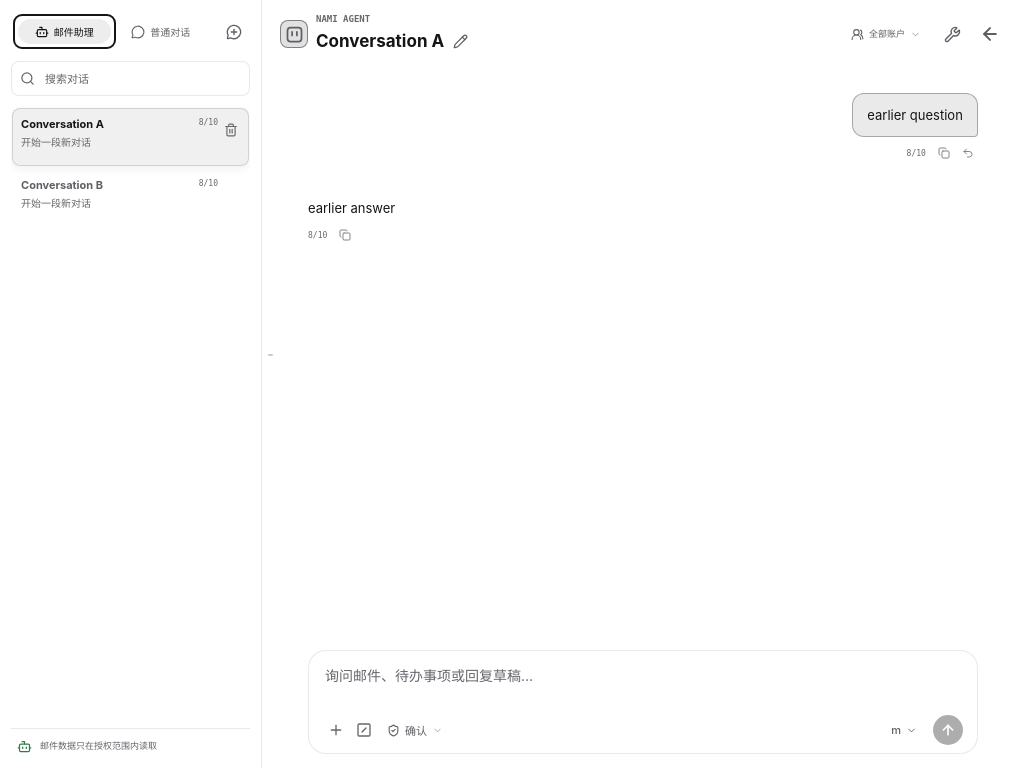
Test: AgentWorkspace conversation switching › multi-select: rows toggle, and deleting the selection removes every chosen conversation
Right-click the element with class "agent-conversation-row" showing "Conversation A 开始一段新对话 8/10" at (130, 137), box [12,108,249,166]
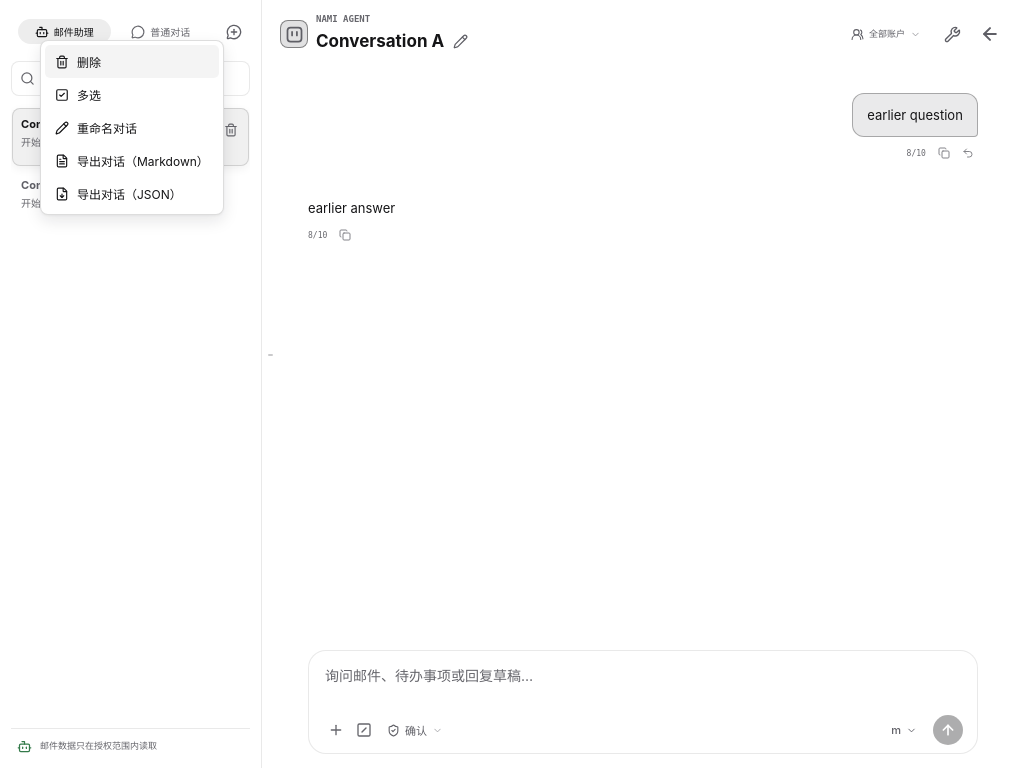
Click the menu item "多选". click: (132, 94)
box: [45,78,219,111]
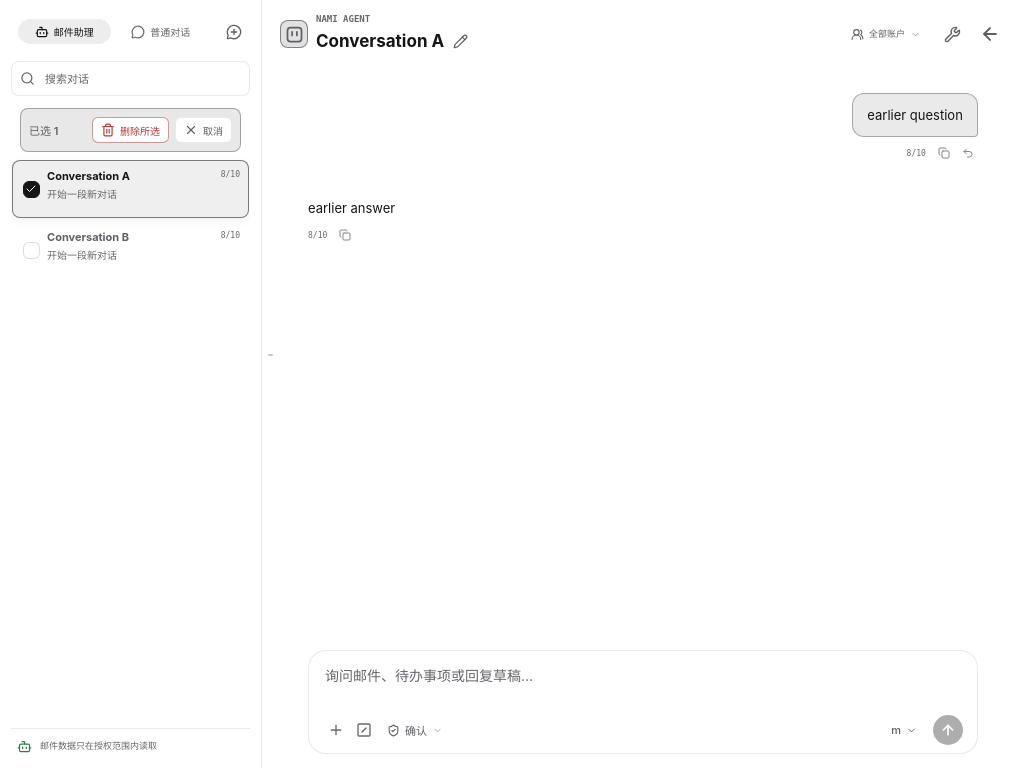
expect the element with class "agent-selection-bar" is shown: met, box [20,108,241,152]
expect the number of buttons with class "agent-row-check" is 2: met, box [18,176,44,202]; [18,237,44,263]
expect the 1st element with class "agent-row-check-box" is shown: met, box [22,180,40,198]
Click the button with class "agent-conversation-open" showing "Conversation B 开始一段新对话 8/10". click: (130, 250)
box: [13,222,248,278]
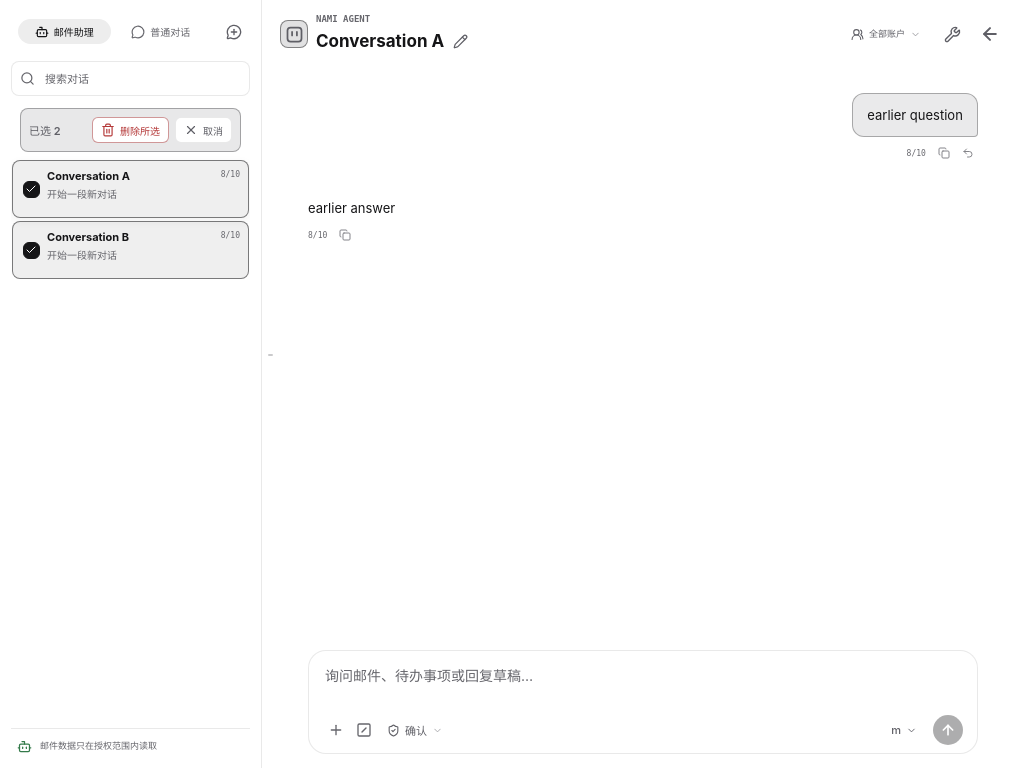
expect the button with class "agent-selection-delete" is enabled: met
Click the button with class "agent-selection-delete". click: (130, 130)
box: [92,117,169,143]
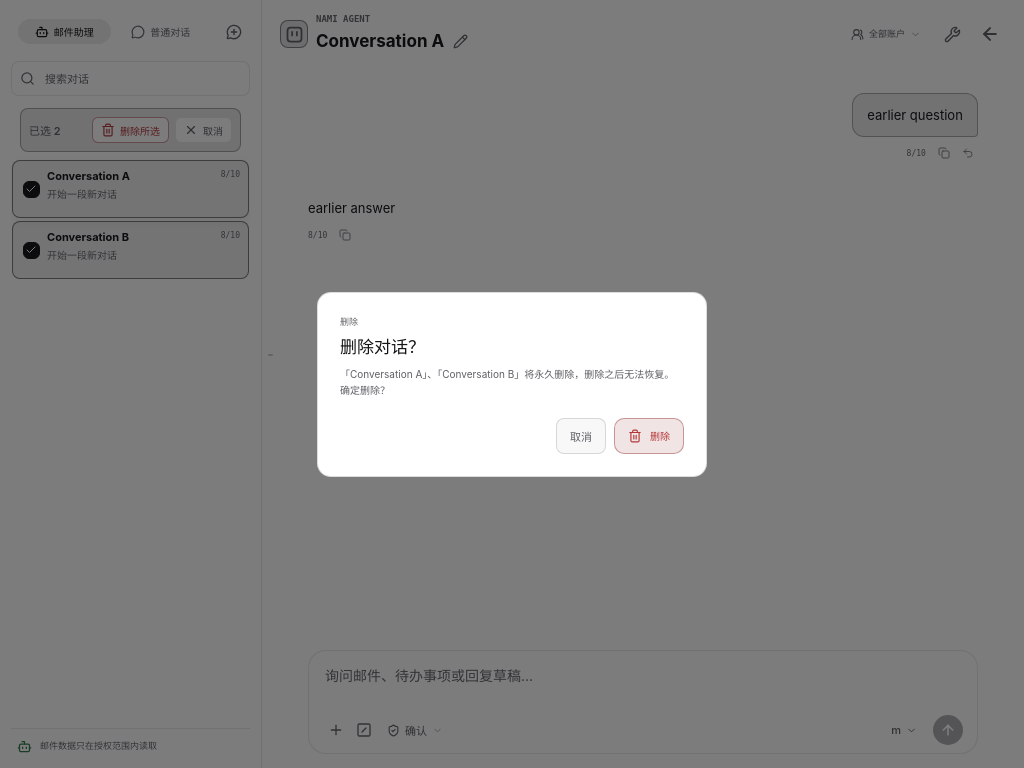
expect the dialog with class "confirmation-card" is shown: met, box [317,292,707,476]
Click the button with class "danger-button". click: (649, 436)
box: [614,418,684,454]
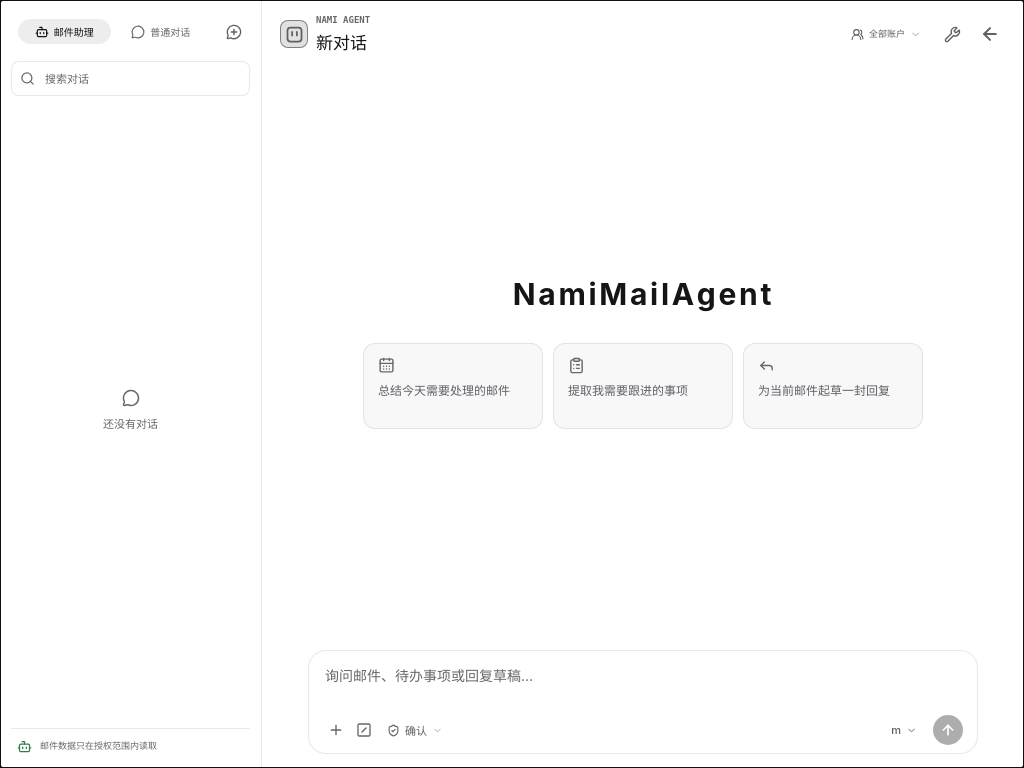
expect the dialog with class "confirmation-card" is gone: met
